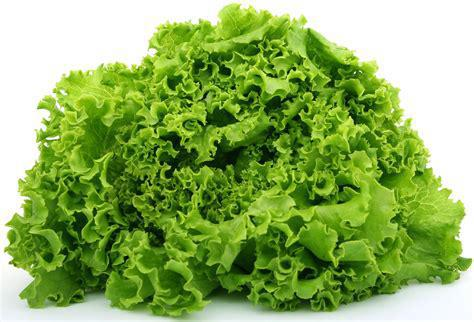HEALTHY: (5, 4, 471, 318)
